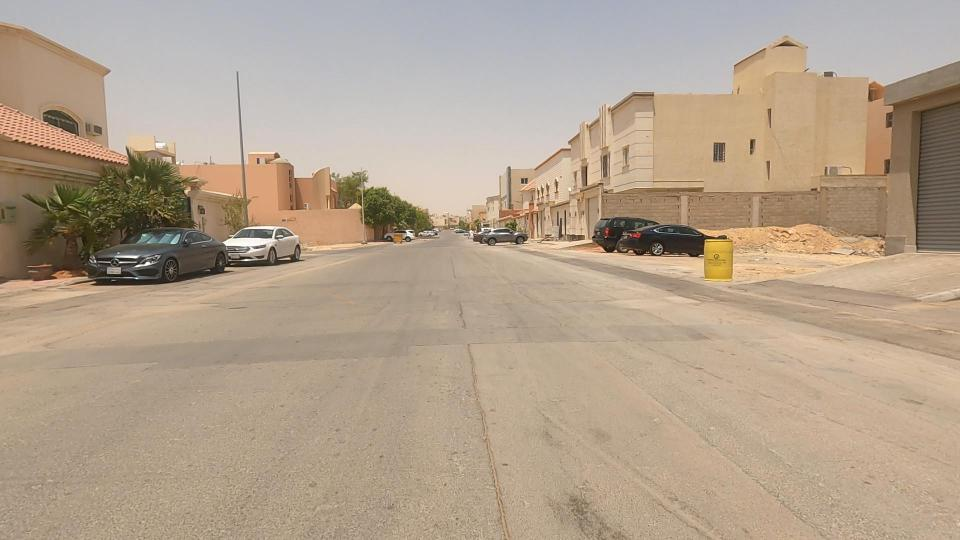SAND_ON_ROAD: (695, 184, 822, 278)
